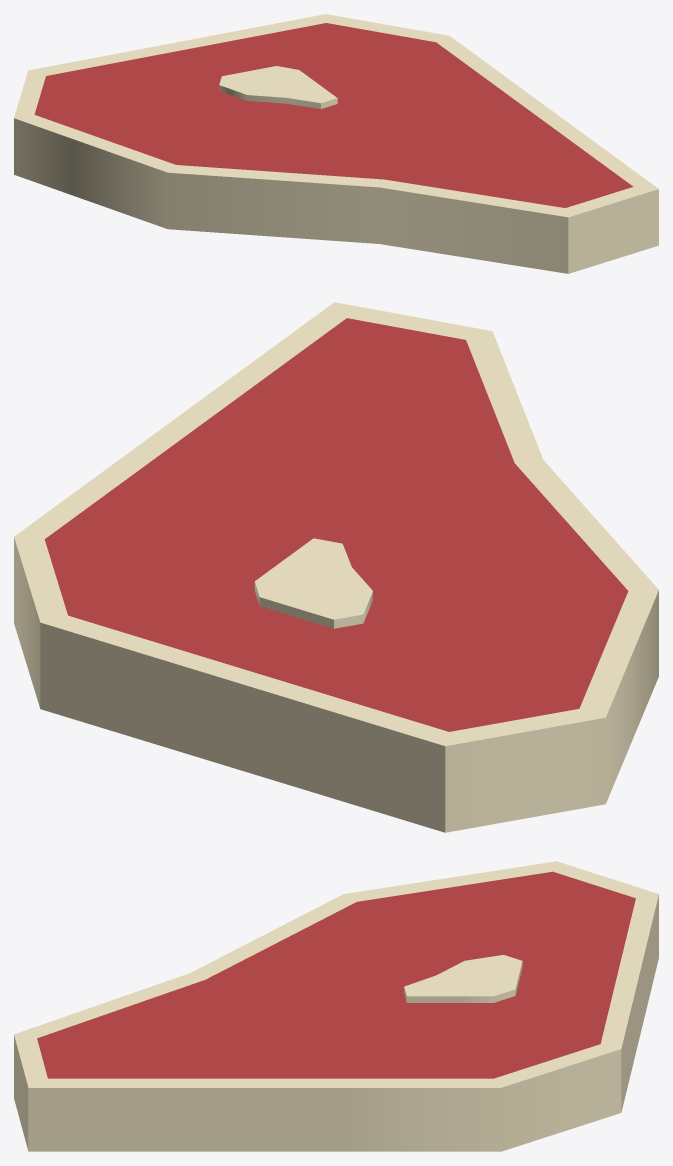
Rendered from steak.FBX.
The picture shows the model from 3 angles, top to bottom: view 1: azimuth 30°, elevation 25°; view 2: azimuth 150°, elevation 25°; view 3: azimuth 270°, elevation 25°; orthographic projection. The views are drawn at different scales.
Parts seen in each view (by area): view 1: Box001; view 2: Box001; view 3: Box001.
Part boxes in pixels (x1=…): Box001: x1=14, y1=14, x2=658, y2=273; Box001: x1=14, y1=302, x2=658, y2=832; Box001: x1=14, y1=861, x2=658, y2=1151.
Bounding box in the file's own units: 24.54 × 3.79 × 29.53.
